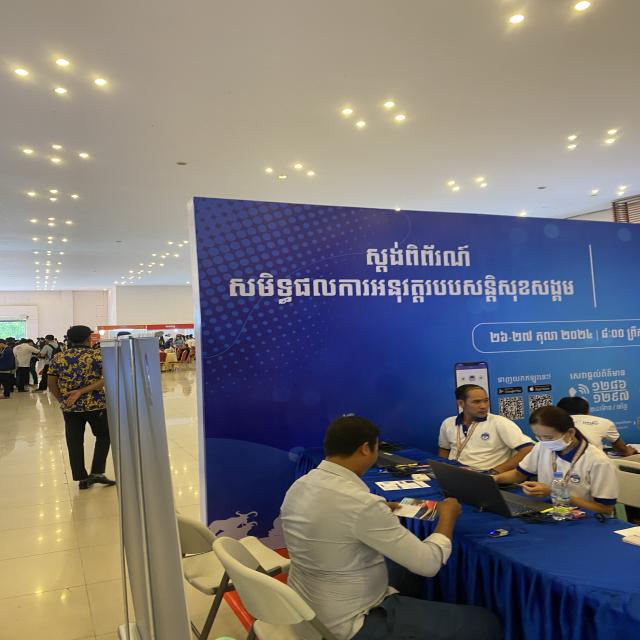4: (480, 324, 626, 346)
Yolov11_80vkh: (227, 273, 579, 317), (359, 241, 474, 272), (568, 366, 626, 382), (492, 371, 556, 385), (592, 388, 632, 403), (585, 401, 631, 414), (590, 378, 627, 392)
